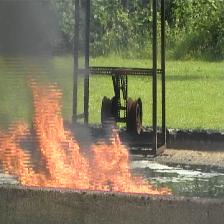fire: (0, 73, 173, 195)
